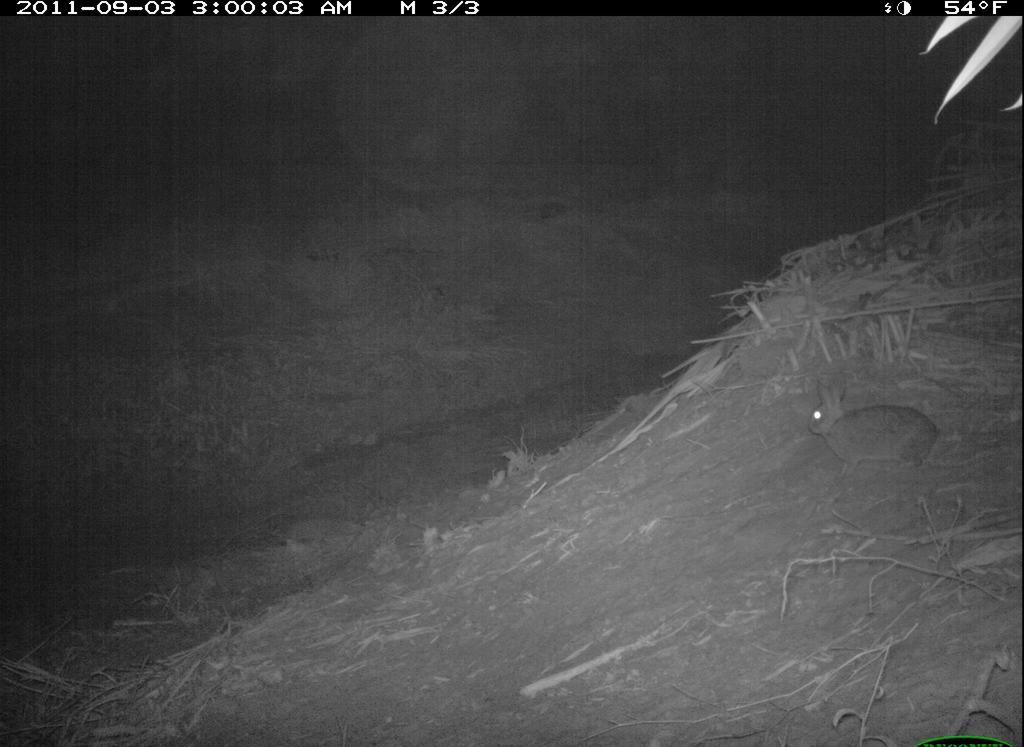rabbit: (800, 357, 951, 480)
